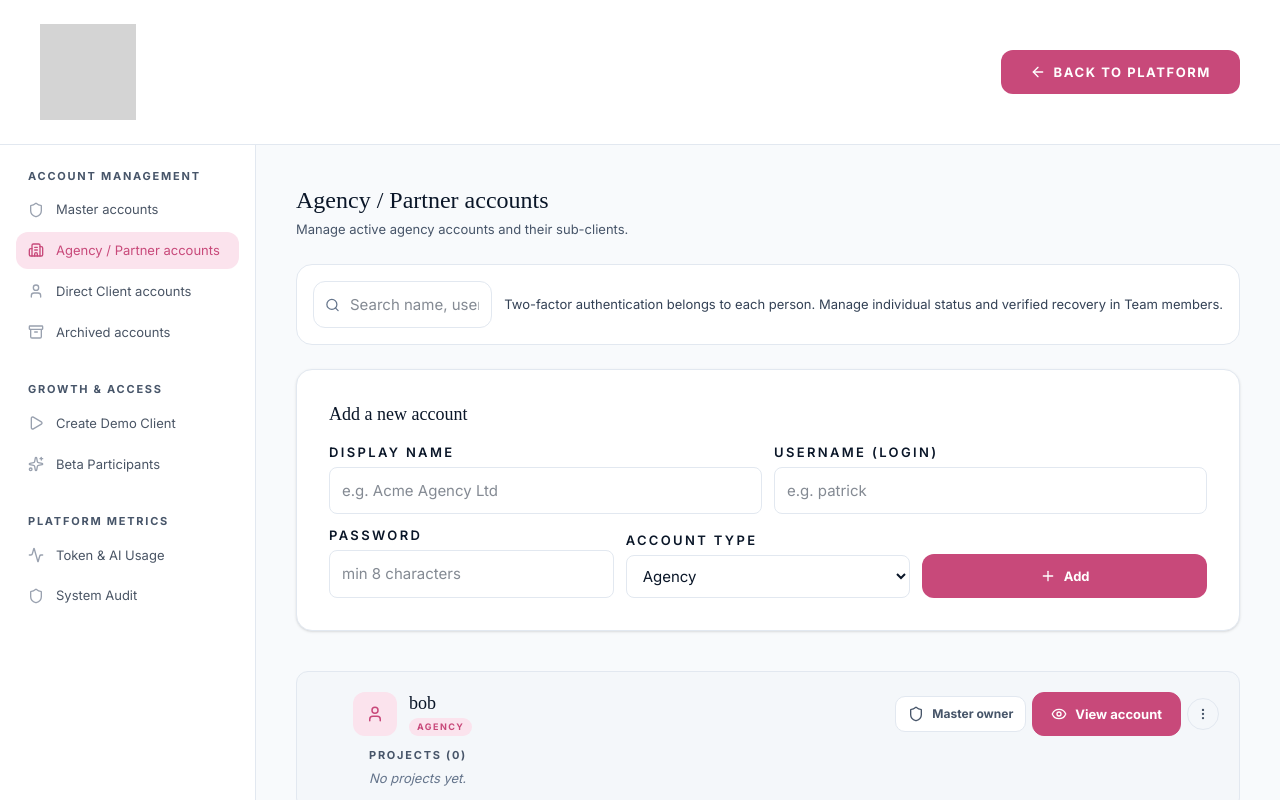
Scenario: UsersAdminPage - workspace lists do not imply personal MFA › keeps archived workspace rows regardless of cached MFA
Expected: the text "bob" is shown, [409, 693, 436, 713]
Click the button "Archived accounts" at (128, 332), box [16, 314, 239, 350]
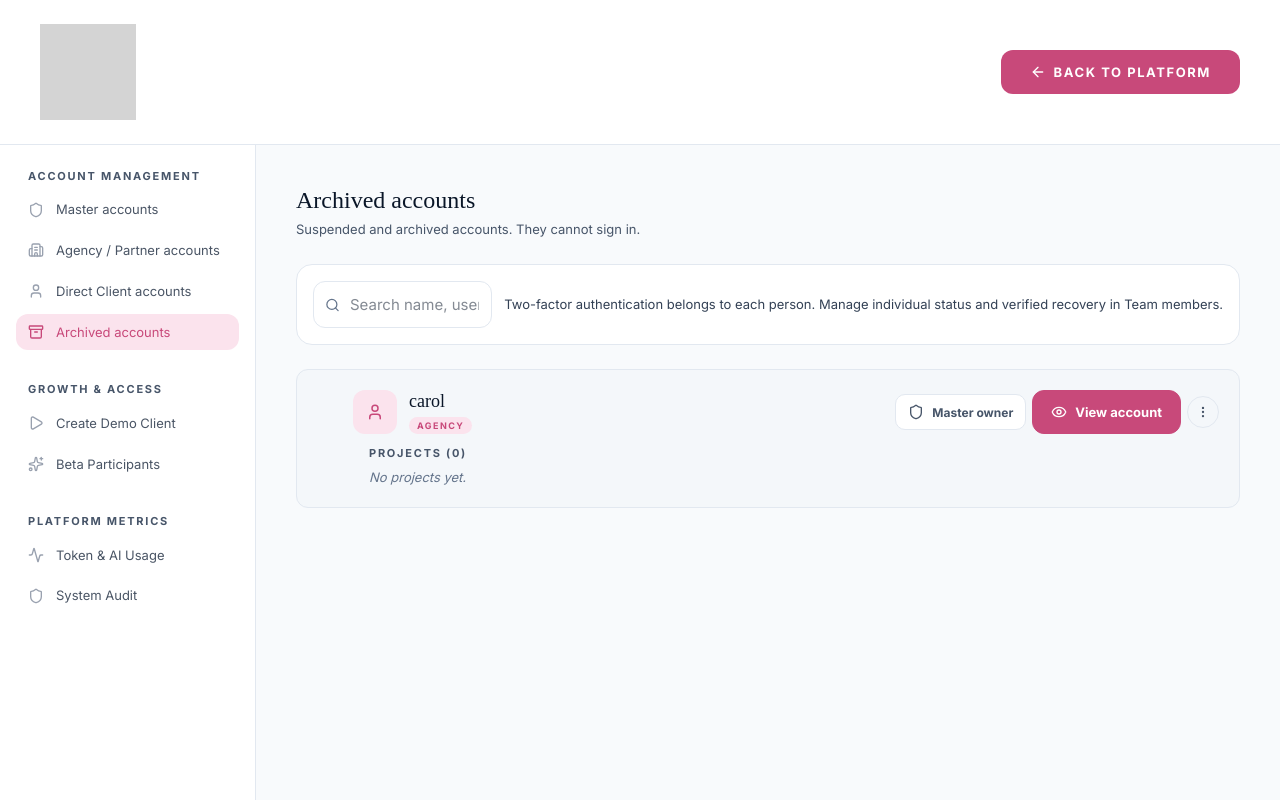
Now the text "carol" is shown, box [409, 391, 445, 411]
